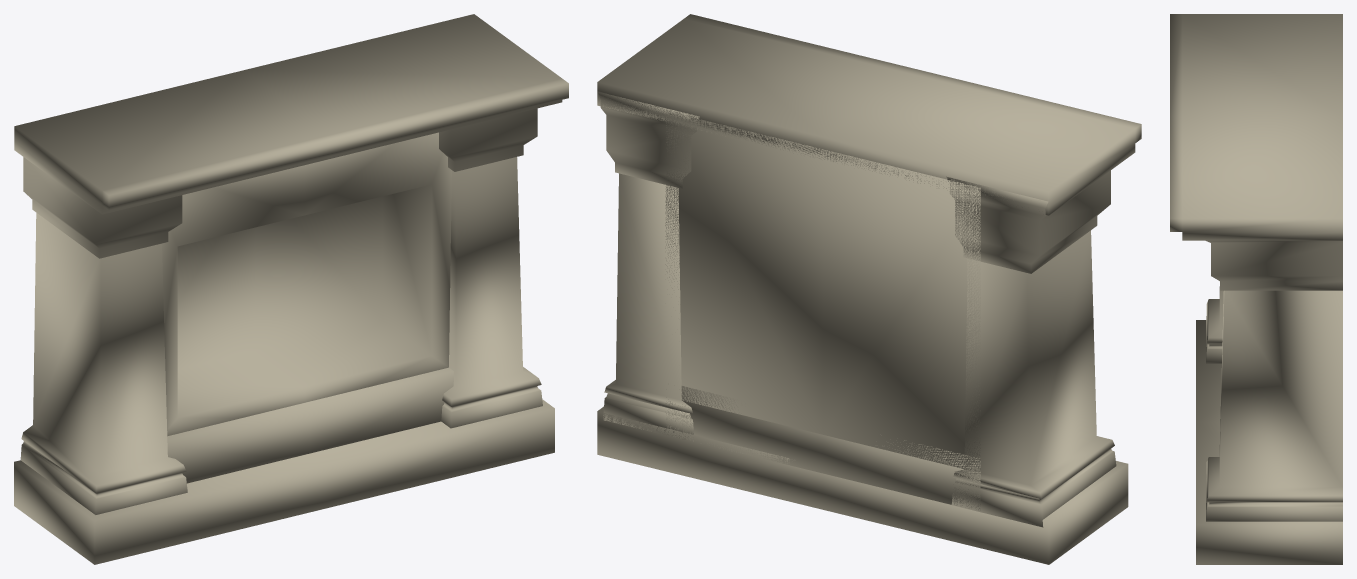
The model's file is Fireplace.glb.
3 renders of one model, left to right at view 1: azimuth 30°, elevation 25°; view 2: azimuth 150°, elevation 25°; view 3: azimuth 270°, elevation 25°, orthographic. The views are drawn at different scales.
Parts seen in each view (by area): view 1: Fireplace; view 2: Fireplace; view 3: Fireplace.
Boxes of the visible parts, x1=… form: Fireplace: x1=14, y1=14, x2=568, y2=564; Fireplace: x1=597, y1=14, x2=1141, y2=564; Fireplace: x1=1170, y1=14, x2=1342, y2=564.
Size of the model in its own units: 3.25 by 2.56 by 1.16.
